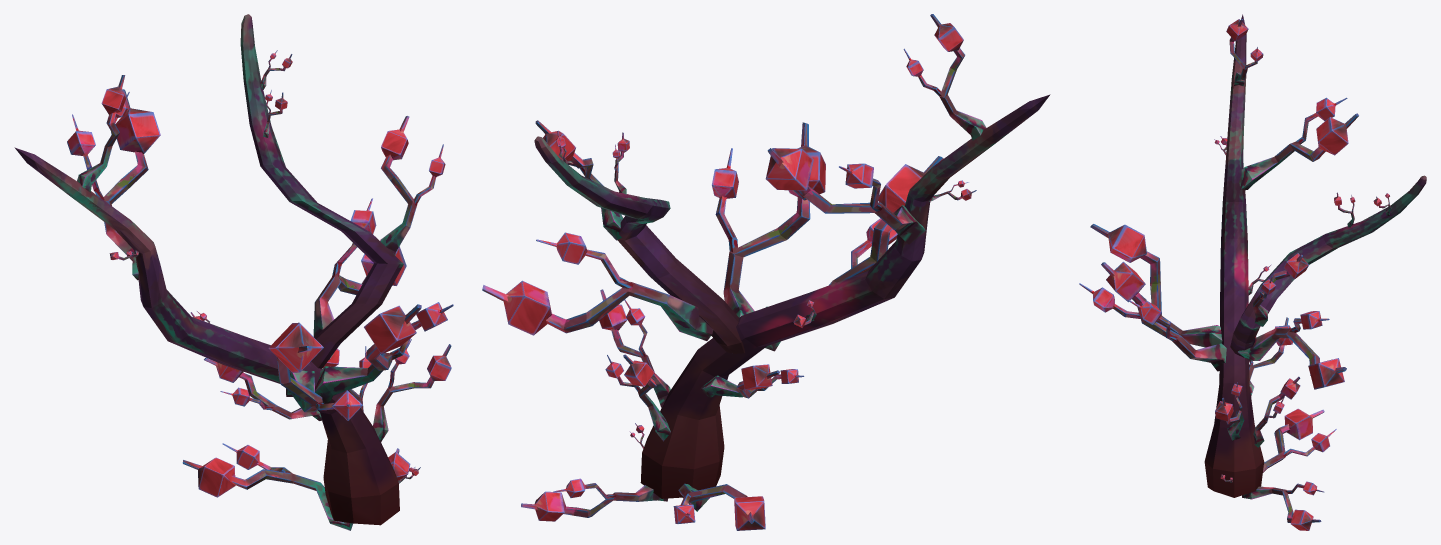
Rendered from P_Branchy.fbx.
3 renders of one model, left to right at view 1: azimuth 30°, elevation 25°; view 2: azimuth 150°, elevation 25°; view 3: azimuth 270°, elevation 25°, orthographic. The views are drawn at different scales.
Visible parts, largest first — view 1: Plant_Branchy_V2.001; view 2: Plant_Branchy_V2.001; view 3: Plant_Branchy_V2.001.
Part boxes in pixels (x1=…): Plant_Branchy_V2.001: x1=14, y1=14, x2=453, y2=530; Plant_Branchy_V2.001: x1=482, y1=14, x2=1050, y2=530; Plant_Branchy_V2.001: x1=1079, y1=14, x2=1426, y2=530.
Size of the model in its own units: 109 by 118 by 93.94.
